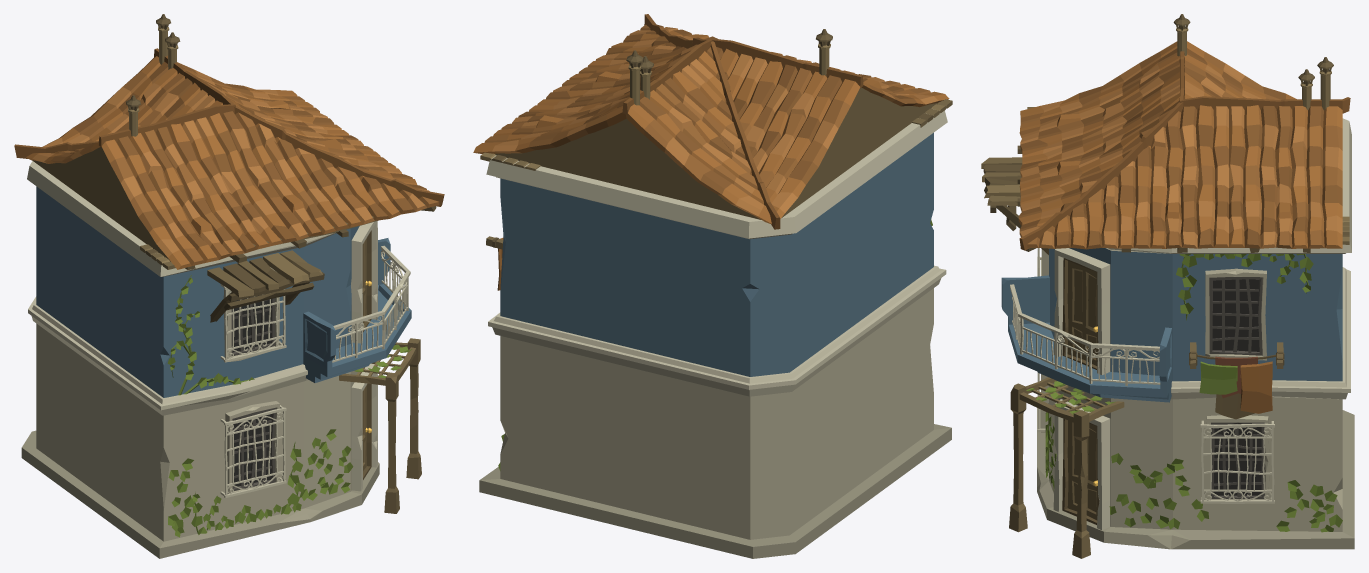
Rendered from Building_6.fbx.
3 renders of one model, left to right at view 1: azimuth 30°, elevation 25°; view 2: azimuth 150°, elevation 25°; view 3: azimuth 270°, elevation 25°, orthographic. The views are drawn at different scales.
Parts seen in each view (by area): view 1: Building_6; view 2: Building_6; view 3: Building_6.
Boxes of the visible parts, bbox=[...] form: Building_6: bbox=[14, 14, 444, 558]; Building_6: bbox=[473, 14, 952, 558]; Building_6: bbox=[981, 14, 1354, 558].
Size of the model in its own units: 731 by 974 by 769.
